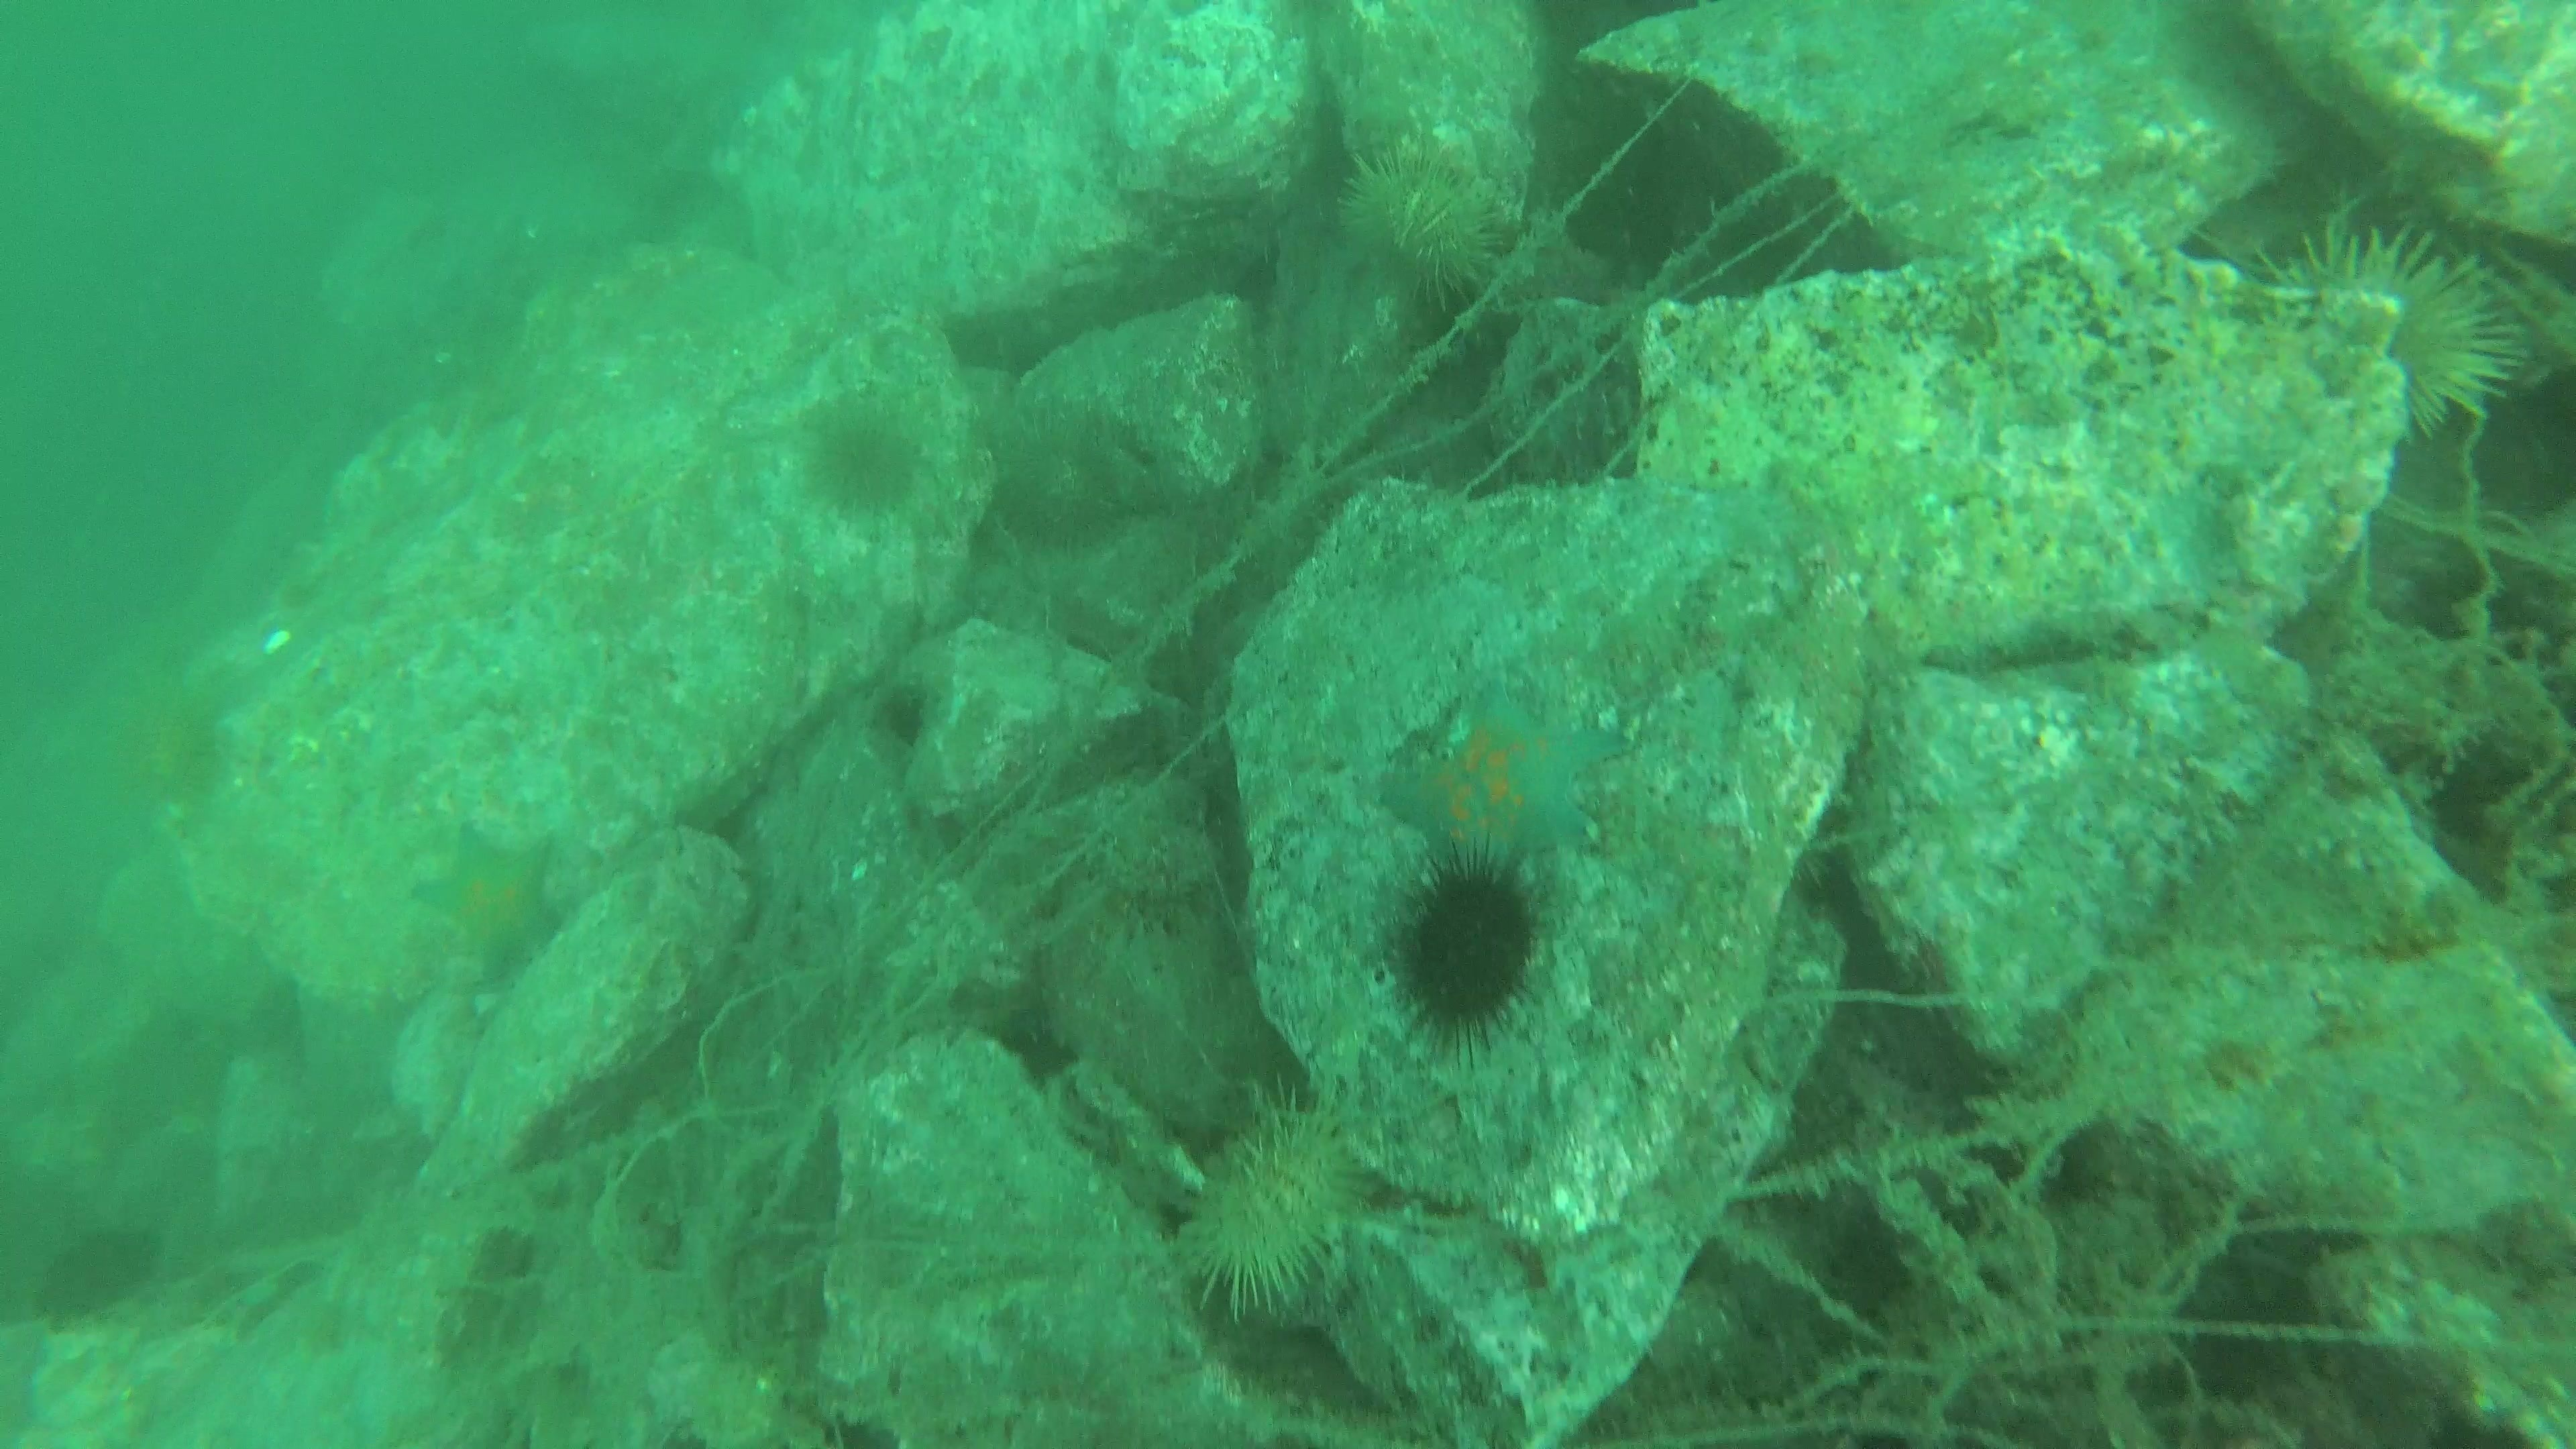echinus: (2233, 207, 2528, 460), (1161, 1088, 1376, 1325), (1382, 851, 1550, 1046), (1332, 136, 1507, 306), (987, 400, 1146, 556), (798, 396, 931, 522), (28, 1215, 165, 1329)
starfish: (1380, 685, 1628, 878), (407, 817, 571, 987)
